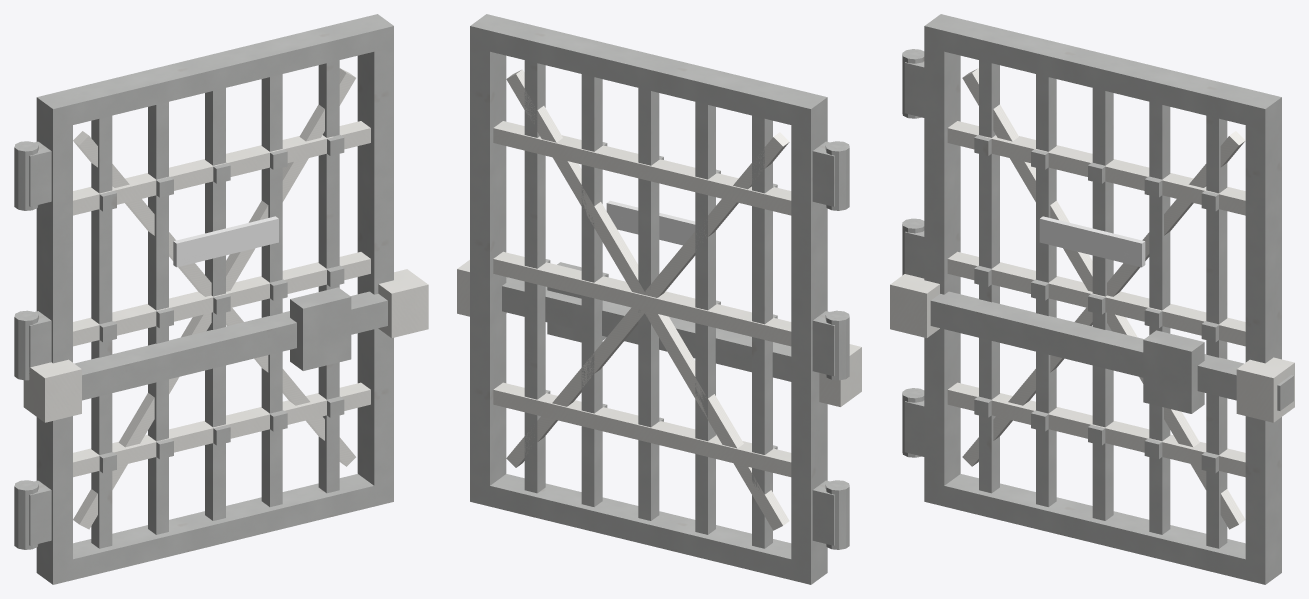
The model's file is lockplate.gltf.
3 renders of one model, left to right at view 1: azimuth 30°, elevation 25°; view 2: azimuth 150°, elevation 25°; view 3: azimuth 330°, elevation 25°, orthographic.
Parts seen in each view (by area): view 1: jx_lockplate; view 2: jx_lockplate; view 3: jx_lockplate.
Boxes of the visible parts, left/top/right/bottom form: jx_lockplate: left=14, top=14, right=428, bottom=584; jx_lockplate: left=457, top=14, right=861, bottom=584; jx_lockplate: left=890, top=14, right=1294, bottom=584.
Size of the model in its own units: 2.77 by 3.2 by 0.39.
Materials: 3 (3 with a texture image).
